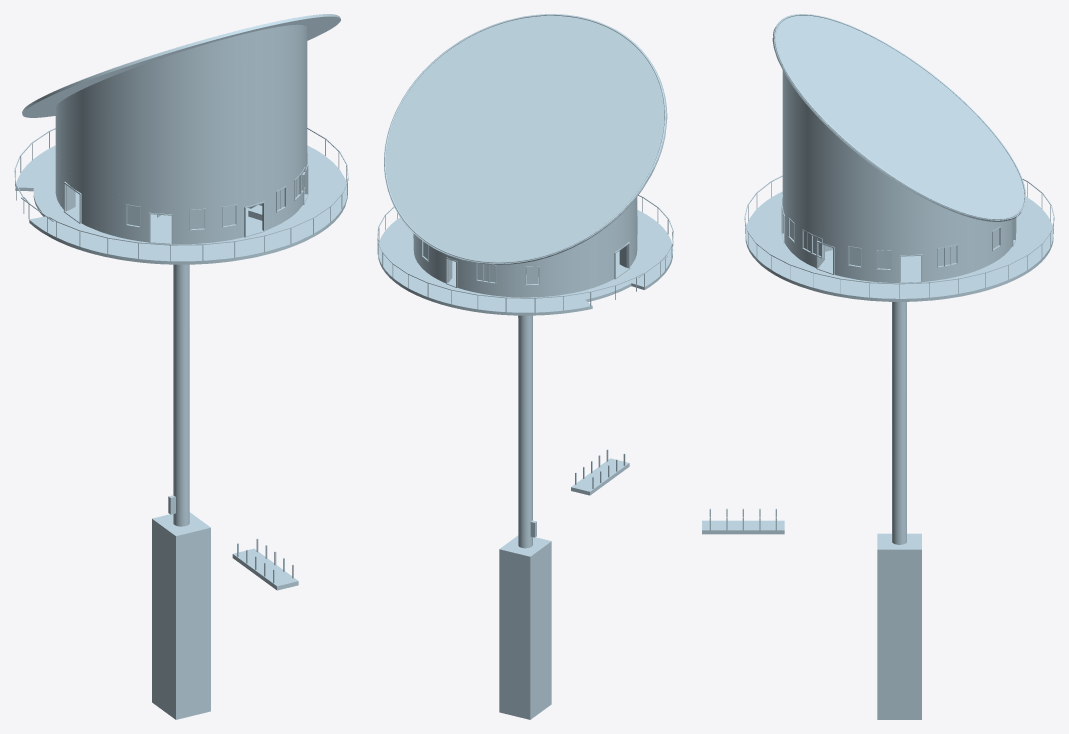
File: tower_crown_7_lod1.glb
The picture shows the model from 3 angles, left to right: view 1: azimuth 30°, elevation 25°; view 2: azimuth 150°, elevation 25°; view 3: azimuth 270°, elevation 25°; orthographic projection. The views are drawn at different scales.
Visible parts, largest first — view 1: Roof infill, Slab 6, Pod container, Facade 6, Hatch column, Solar disc, Bridge deck; view 2: Solar disc, Pod container, Slab 6, Facade 6, Hatch column, Solar rim, Roof infill, Bridge deck; view 3: Solar disc, Roof infill, Slab 6, Pod container, Facade 6, Hatch column, Solar rim, Bridge deck.
Boxes of the visible parts, x1=… form: Roof infill: x1=55, y1=24, x2=307, y2=201; Slab 6: x1=15, y1=145, x2=347, y2=264; Pod container: x1=152, y1=512, x2=210, y2=719; Facade 6: x1=55, y1=151, x2=307, y2=244; Hatch column: x1=173, y1=264, x2=189, y2=526; Solar disc: x1=22, y1=14, x2=340, y2=117; Bridge deck: x1=232, y1=548, x2=298, y2=590; Solar disc: x1=384, y1=14, x2=667, y2=264; Pod container: x1=499, y1=535, x2=551, y2=719; Slab 6: x1=378, y1=210, x2=673, y2=315; Facade 6: x1=413, y1=214, x2=637, y2=297; Hatch column: x1=518, y1=315, x2=532, y2=548; Solar rim: x1=384, y1=14, x2=665, y2=263; Roof infill: x1=544, y1=197, x2=637, y2=258; Bridge deck: x1=571, y1=458, x2=629, y2=495; Solar disc: x1=772, y1=14, x2=1026, y2=221; Roof infill: x1=782, y1=70, x2=994, y2=243; Slab 6: x1=745, y1=191, x2=1053, y2=301; Pod container: x1=877, y1=533, x2=921, y2=719; Facade 6: x1=782, y1=196, x2=1016, y2=282; Hatch column: x1=892, y1=302, x2=906, y2=544; Solar rim: x1=774, y1=14, x2=1025, y2=219; Bridge deck: x1=702, y1=520, x2=784, y2=534.
Size of the model in its own units: 20.1 by 48.3 by 22.87.
